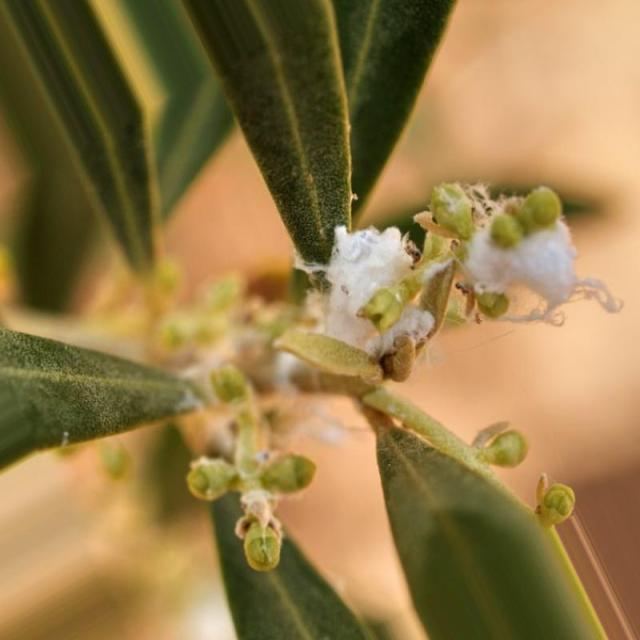Psyllid: (416, 182, 622, 326), (324, 227, 434, 376)
